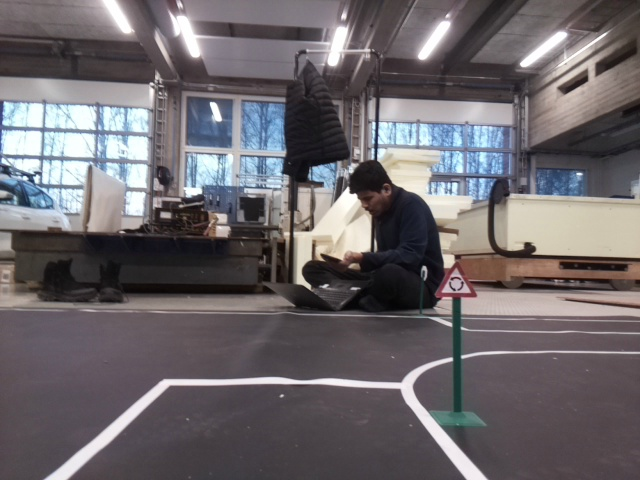Roundabout: (431, 261, 479, 296)
